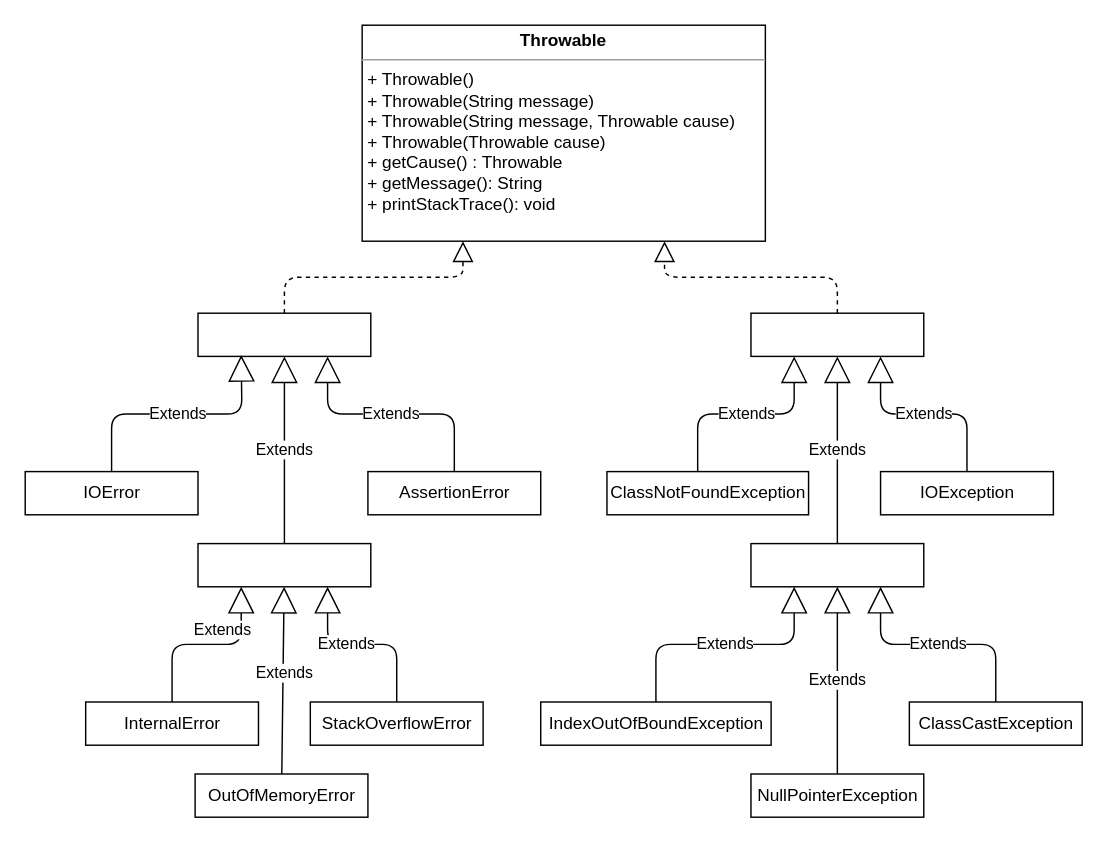
Image size: 1107x842. Some labels were removed from this diagram. The shapes that lost their labels are listed below. From the top down, each one's centre as x and y in pixels, then its label:
At point (284, 334): "Error".
At point (837, 334): "Exception".
At point (284, 564): "VirtualMachineError".
At point (837, 564): "RuntimeException".
